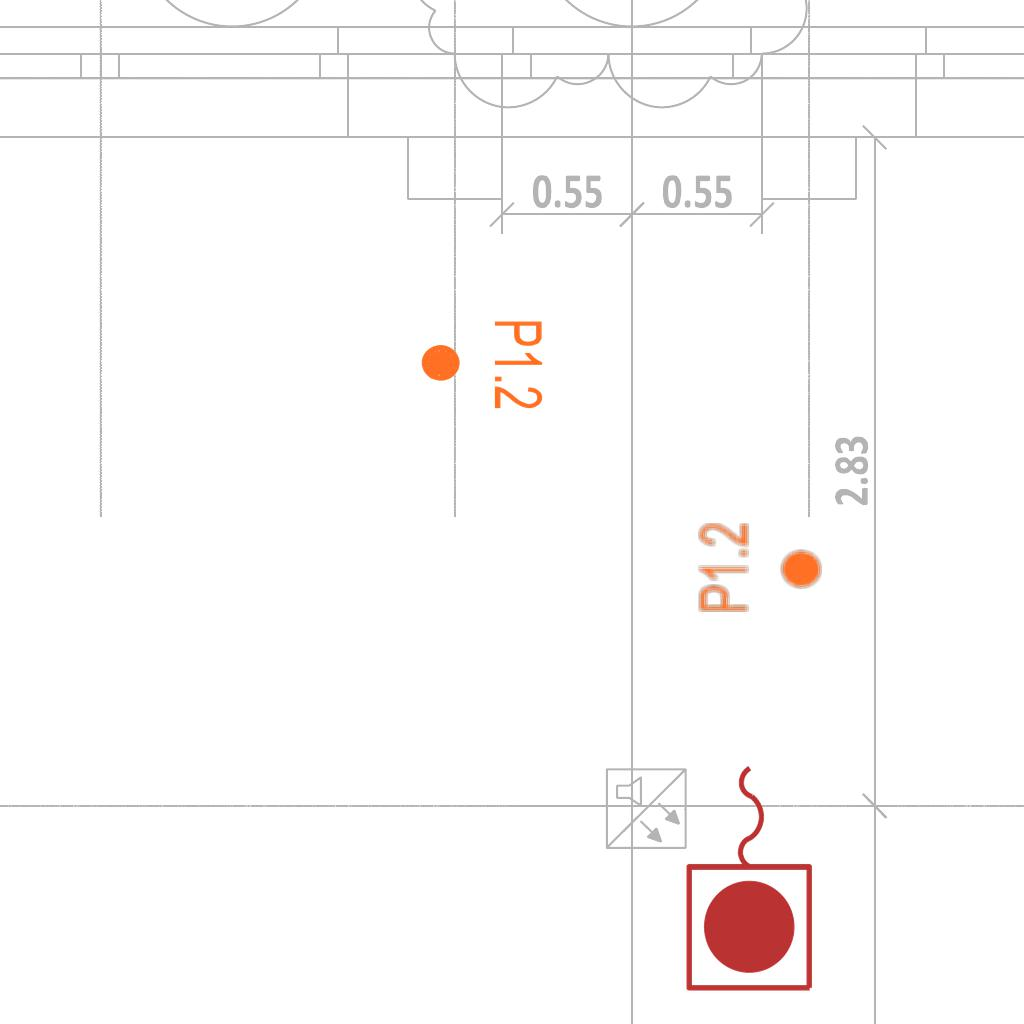Downlight_LED_Einbauleuchten_Flur: (418, 318, 546, 411), (696, 521, 824, 614)
Zugtaster: (679, 755, 823, 999)
